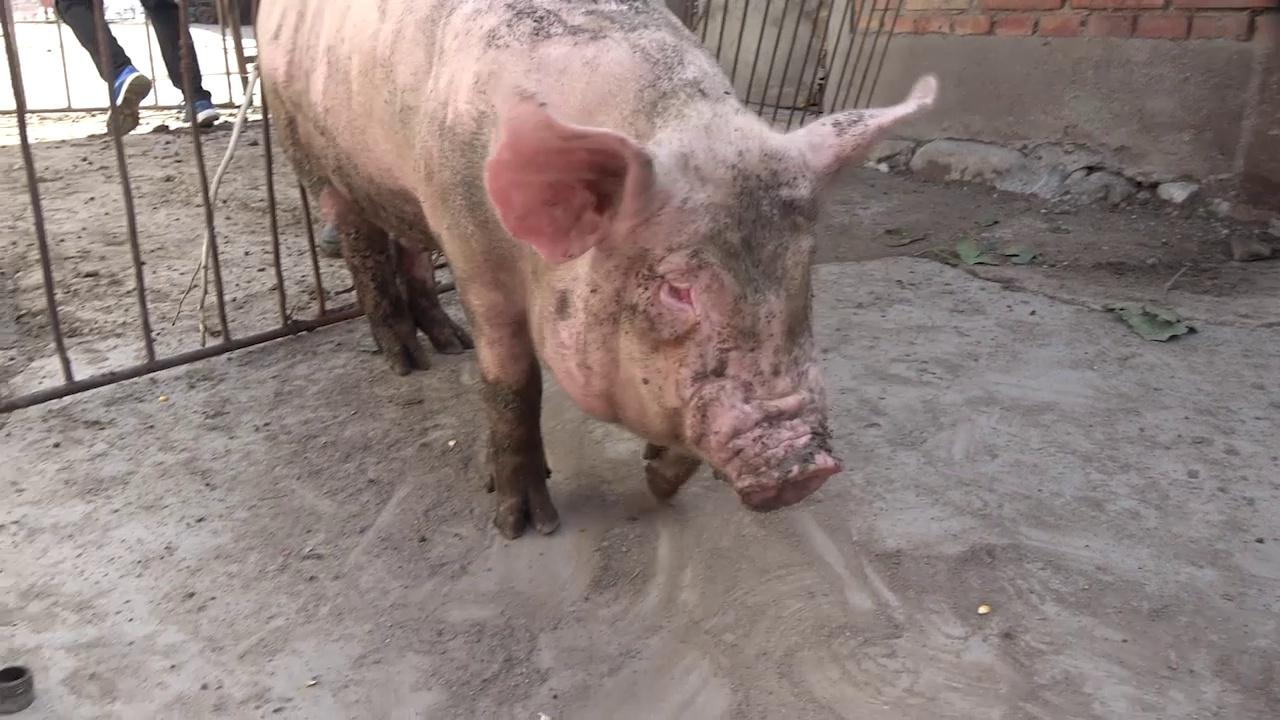Face: (466, 72, 956, 518)
